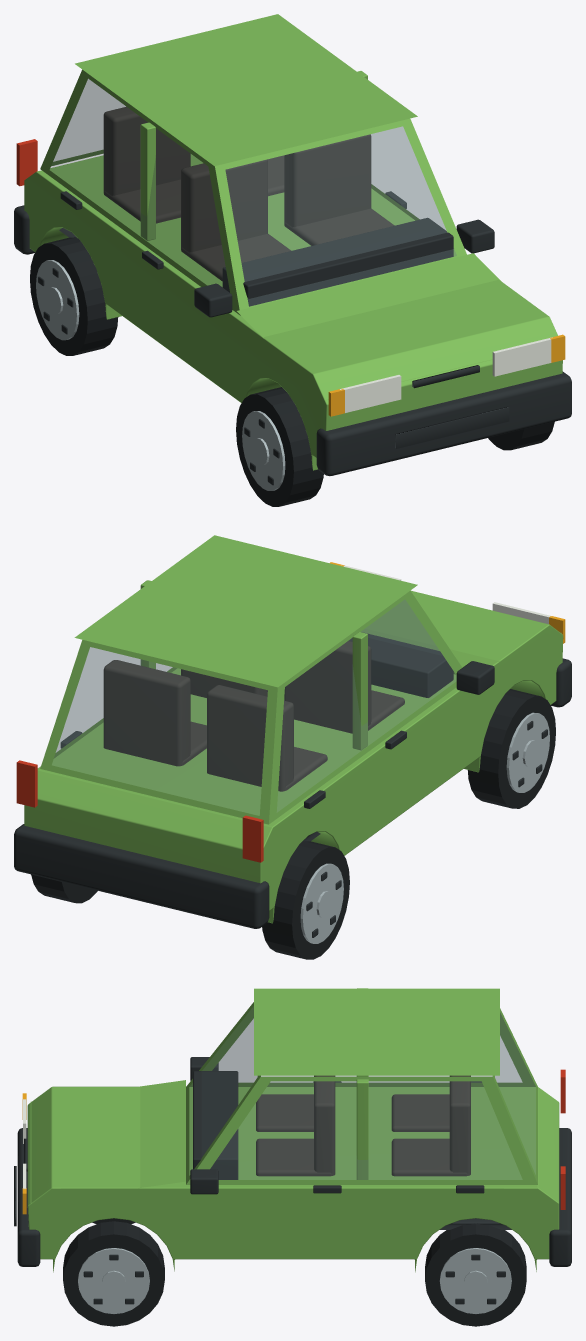
Rendered from GreenHatchback.fbx.
3 renders of one model, top to bottom at view 1: azimuth 30°, elevation 25°; view 2: azimuth 150°, elevation 25°; view 3: azimuth 270°, elevation 25°, orthographic. The views are drawn at different scales.
Parts seen in each view (by area): view 1: Hatchback_Green_LOD0, Hatchback_Glass_LOD0, Hatchback_Charcoal_LOD0, Hatchback_Seats_LOD0, Tyre.001, Tyre, Hatchback_Headlights_LOD0, Hubcap, Hubcap.001, Tyre.004, Hubcap.009, Hubcap.004 (+5 smaller); view 2: Hatchback_Green_LOD0, Hatchback_Glass_LOD0, Hatchback_Seats_LOD0, Hatchback_Charcoal_LOD0, Tyre.001, Tyre, Hubcap.001, Hatchback_TailLights_LOD0, Hubcap, Tyre.009, Tyre.008, Tyre.005 (+6 smaller); view 3: Hatchback_Green_LOD0, Hatchback_Glass_LOD0, Hatchback_Seats_LOD0, Hatchback_Charcoal_LOD0, Tyre.002, Tyre.003, Hubcap.003, Hubcap.002, Hubcap.006, Tyre.006, Tyre.007, Hubcap.007 (+6 smaller).
Boxes of the visible parts, x1,y1,x2,y2 form: Hatchback_Green_LOD0: (24,14,562,470); Hatchback_Glass_LOD0: (50,79,456,306); Hatchback_Charcoal_LOD0: (14,191,571,476); Hatchback_Seats_LOD0: (103,106,394,281); Tyre.001: (30,237,118,355); Tyre: (236,387,323,506); Hatchback_Headlights_LOD0: (340,337,552,412); Hubcap: (242,411,285,490); Hubcap.001: (36,260,79,340); Tyre.004: (236,395,293,506); Hubcap.009: (36,263,76,337); Hubcap.004: (242,412,282,489); Hatchback_Green_LOD0: (24,535,563,923); Hatchback_Glass_LOD0: (52,599,456,815); Hatchback_Seats_LOD0: (103,641,404,791); Hatchback_Charcoal_LOD0: (14,633,571,928); Tyre.001: (262,841,349,959); Tyre: (467,689,555,808); Hubcap.001: (300,863,343,943); Hatchback_TailLights_LOD0: (16,760,263,862); Hubcap: (506,712,549,792); Tyre.009: (292,851,349,955); Tyre.008: (499,700,555,803); Tyre.005: (292,848,349,958); Hatchback_Green_LOD0: (27,988,559,1272); Hatchback_Glass_LOD0: (189,1006,535,1179); Hatchback_Seats_LOD0: (256,1075,470,1176); Hatchback_Charcoal_LOD0: (14,1057,571,1266); Tyre.002: (63,1221,164,1326); Tyre.003: (425,1223,526,1326); Hubcap.003: (439,1248,511,1313); Hubcap.002: (78,1248,149,1313); Hubcap.006: (78,1249,148,1313); Tyre.006: (63,1234,164,1325); Tyre.007: (425,1234,526,1325); Hubcap.007: (440,1249,511,1313).
Size of what is drawn, in the model's own units: 205 by 186 by 395.
